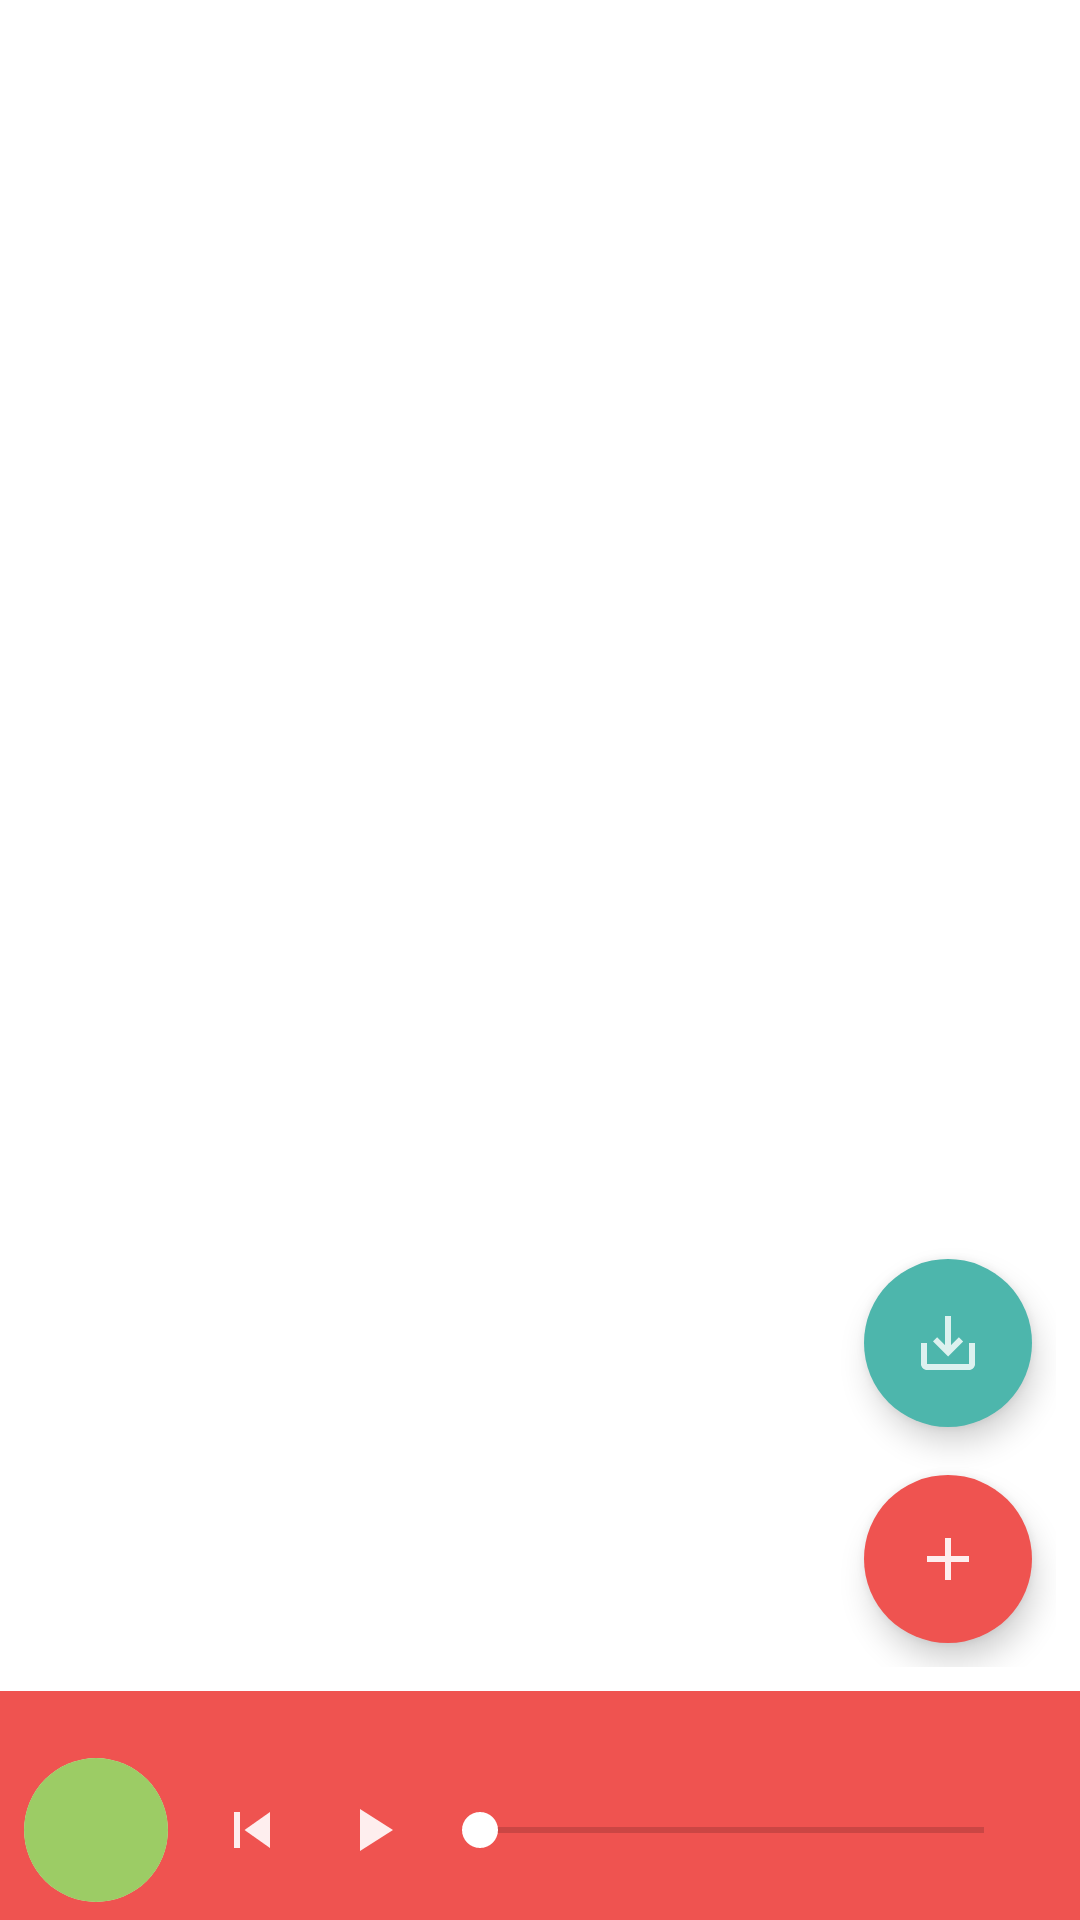

Where to tap for icons on this 1080 x 1920 app screen, as [x,y]:
Add new song: [948,1559]
Export playlist: [948,1343]
play: [376,1830]
skip previous: [252,1830]
